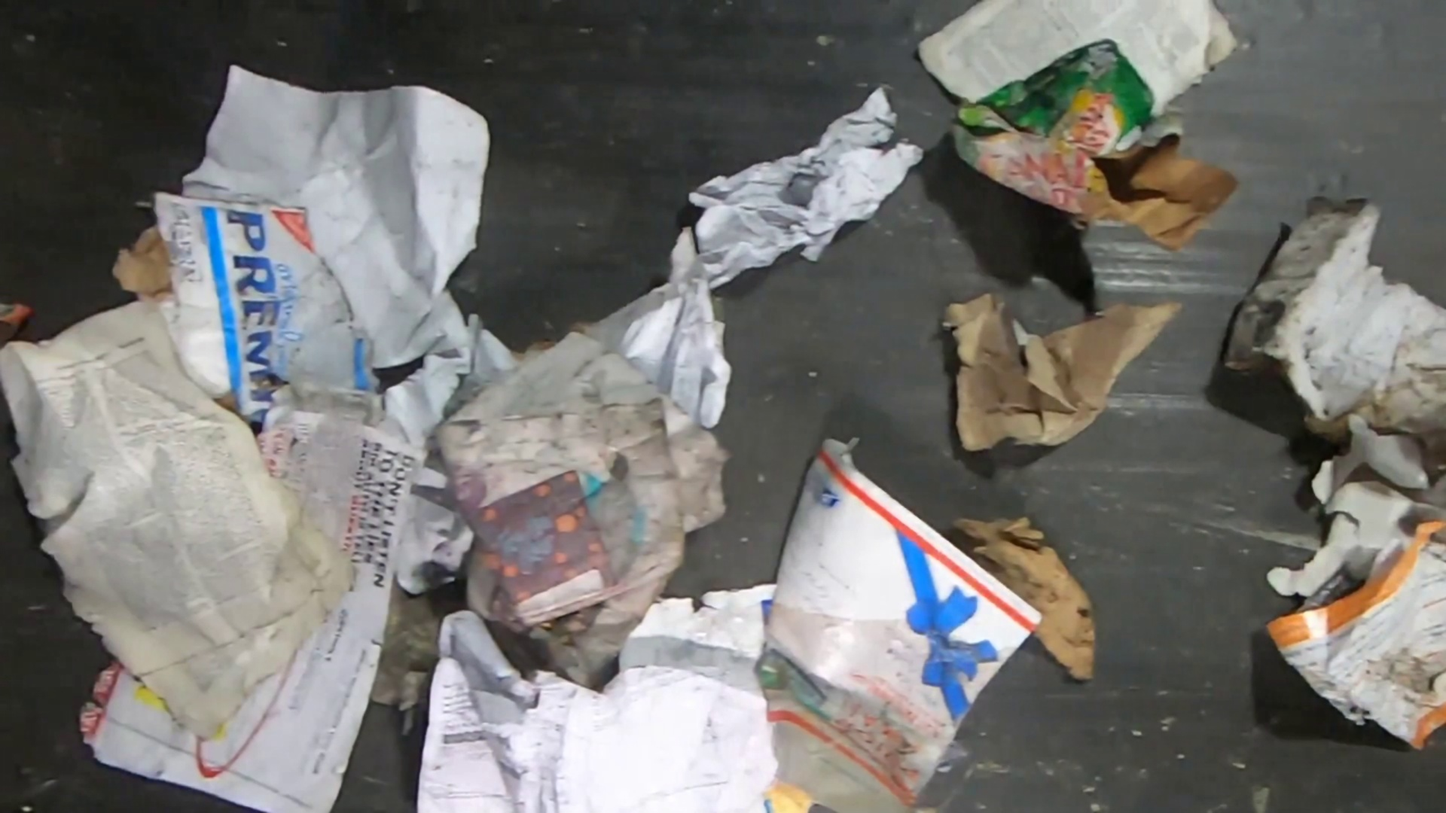cardboard: (757, 433, 1046, 813), (107, 189, 380, 431), (954, 32, 1243, 259), (953, 511, 1100, 682)
